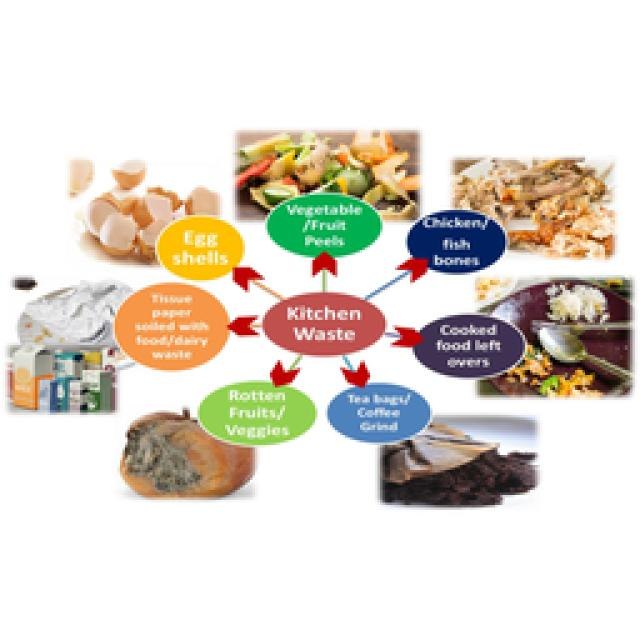food_waste: (238, 130, 418, 218), (452, 158, 608, 255), (8, 282, 128, 408), (82, 160, 218, 260), (380, 422, 535, 502), (120, 408, 252, 495)
